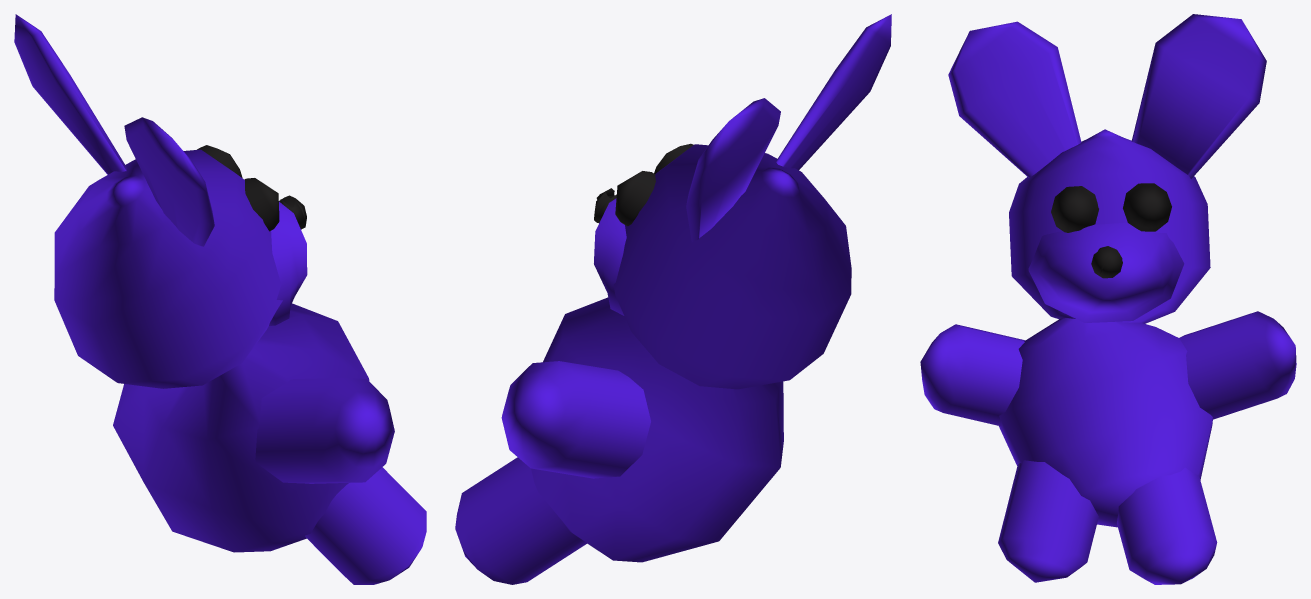
The model's file is rr-plush-bunny.glb.
The picture shows the model from 3 angles, left to right: view 1: azimuth 30°, elevation 25°; view 2: azimuth 150°, elevation 25°; view 3: azimuth 270°, elevation 25°; orthographic projection. The views are drawn at different scales.
Parts seen in each view (by area): view 1: Violet_Cloth, Black_Shiny Metal; view 2: Violet_Cloth, Black_Shiny Metal; view 3: Violet_Cloth, Black_Shiny Metal.
Part boxes in pixels (x1,y1,x2,y2): Violet_Cloth: (14,14,426,584); Black_Shiny Metal: (197,145,306,231); Violet_Cloth: (455,14,891,584); Black_Shiny Metal: (594,143,693,226); Violet_Cloth: (920,14,1296,584); Black_Shiny Metal: (1051,183,1171,278).
Bounding box in the file's own units: 0.4268 × 0.6762 × 0.4993.
